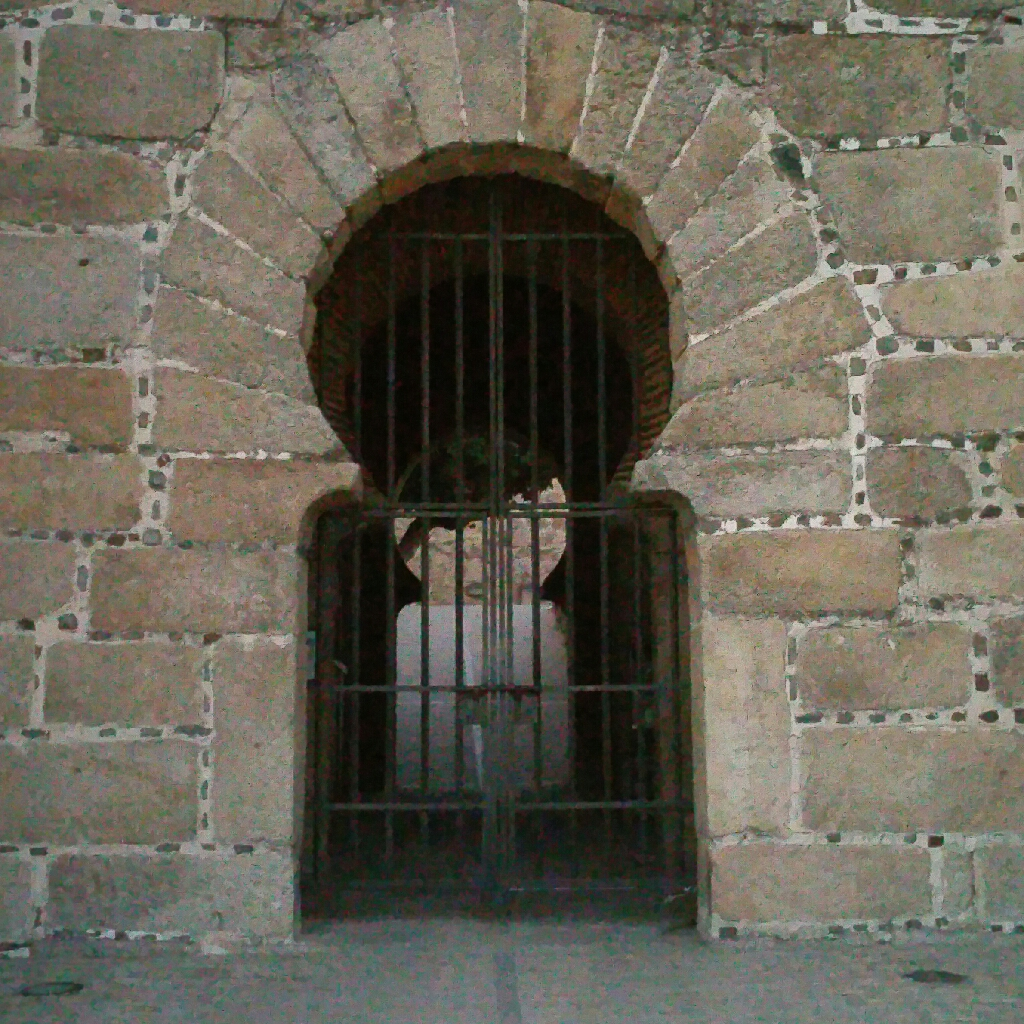arco-herradura: (275, 124, 718, 519)
